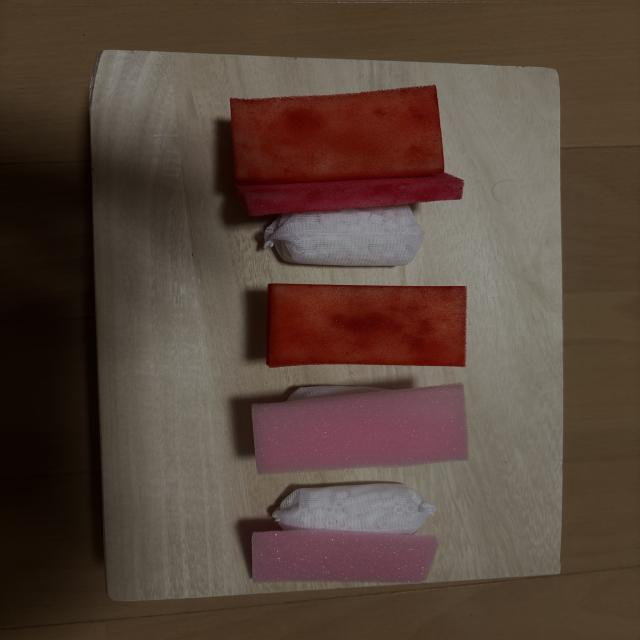NG: (236, 173, 464, 266), (252, 483, 438, 582)
salmon: (231, 86, 444, 185), (267, 285, 465, 367)
tai: (252, 384, 467, 474)
